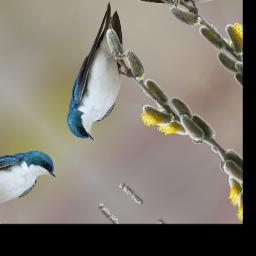Swallow: (23, 1, 173, 149)
